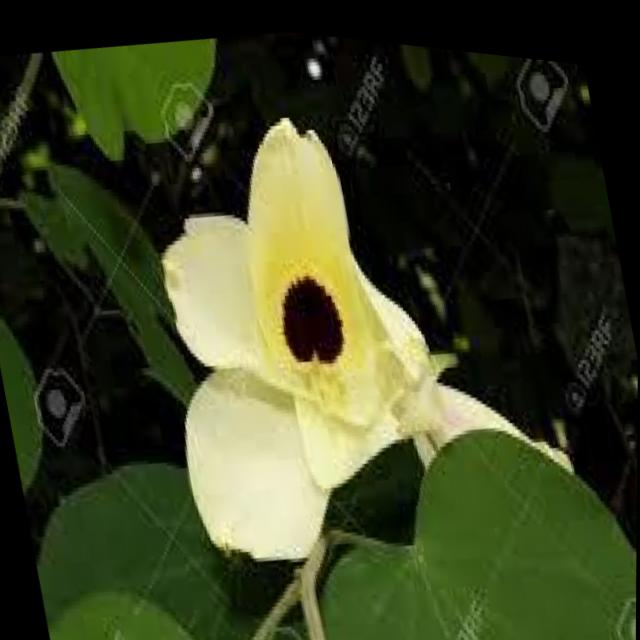Flower: (131, 99, 458, 574)
